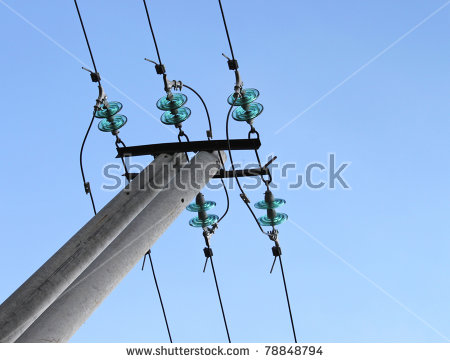isolator: (154, 91, 192, 126), (227, 87, 264, 122), (93, 100, 127, 132), (254, 198, 288, 227), (184, 200, 219, 227)
